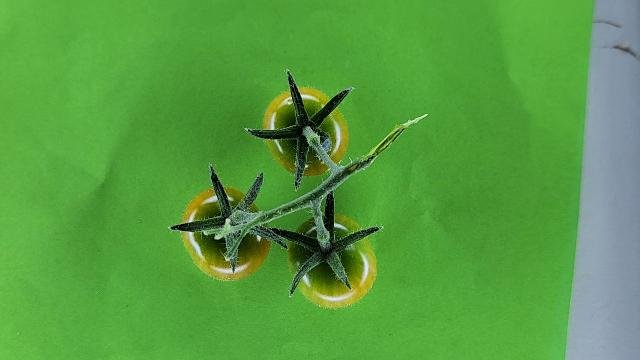Fully Grown: (180, 186, 273, 282), (286, 212, 377, 308), (262, 86, 349, 176)
